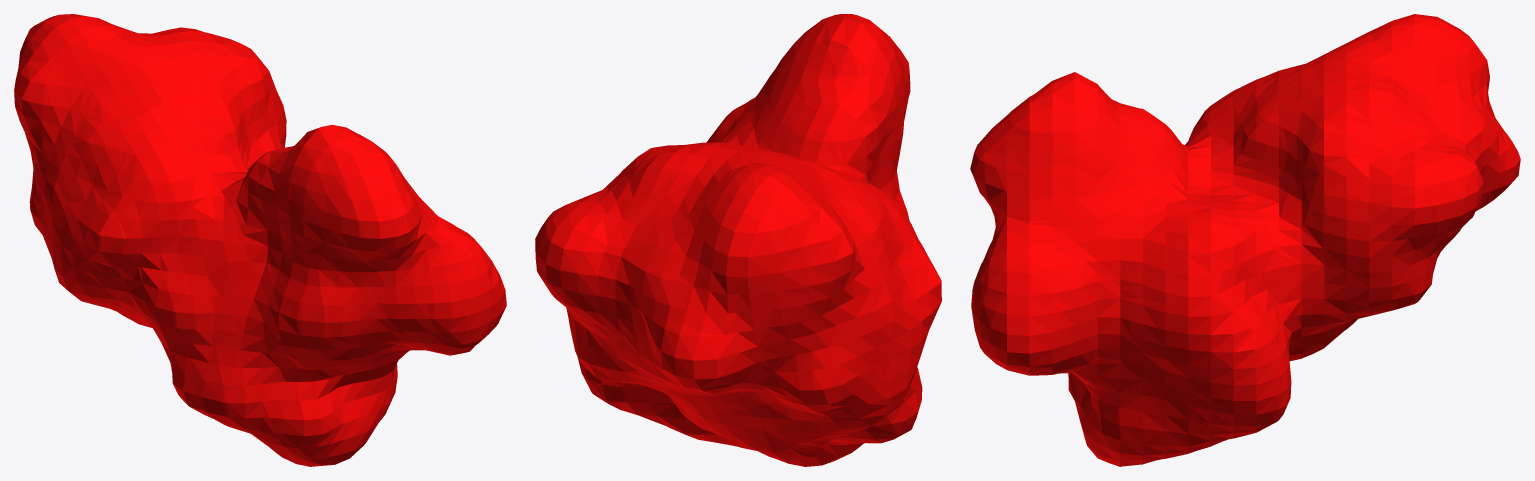
The model's file is minC_coarse.dae.
3 renders of one model, left to right at view 1: azimuth 30°, elevation 25°; view 2: azimuth 150°, elevation 25°; view 3: azimuth 270°, elevation 25°, orthographic. The views are drawn at different scales.
Parts seen in each view (by area): view 1: minC; view 2: minC; view 3: minC.
Part boxes in pixels (x1,y1,x2,y2): minC: (14,14,506,466); minC: (535,14,941,466); minC: (970,14,1520,466).
Size of the model in its own units: 43.05 by 49.43 by 63.56.
